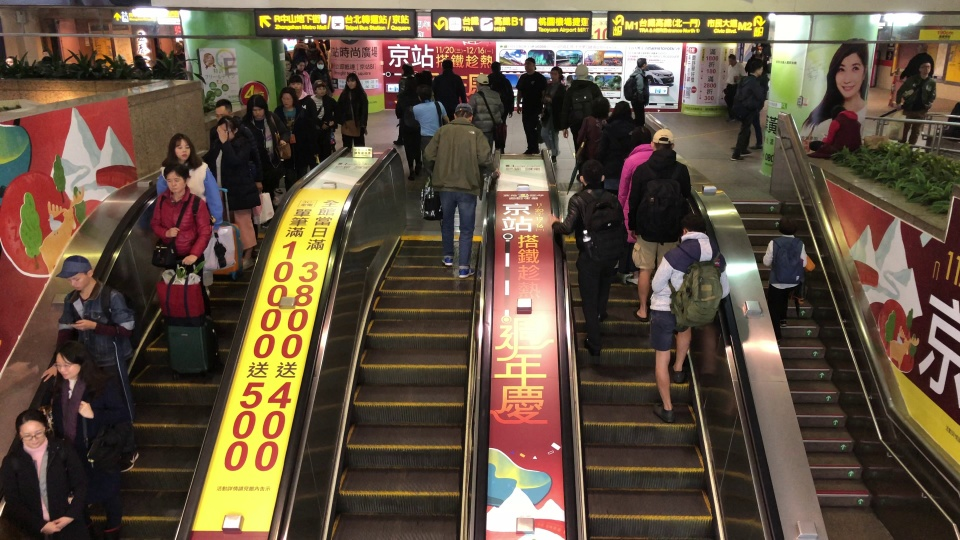person_head: (53, 338, 89, 384), (161, 134, 202, 169), (55, 256, 93, 289), (15, 410, 47, 448), (161, 165, 191, 199), (579, 160, 604, 189), (651, 128, 675, 152), (247, 94, 268, 120), (609, 101, 633, 123), (681, 214, 705, 235), (630, 125, 651, 147), (776, 215, 798, 236), (214, 117, 234, 140), (215, 99, 233, 123), (452, 103, 473, 123), (591, 96, 610, 118), (278, 87, 295, 106), (829, 105, 847, 121), (312, 80, 329, 96), (416, 87, 432, 104), (548, 66, 565, 82), (474, 74, 489, 92), (748, 58, 763, 76), (288, 75, 303, 92), (344, 73, 359, 88), (574, 65, 589, 80), (523, 57, 536, 73), (917, 62, 932, 74), (404, 76, 415, 92), (401, 63, 414, 76), (441, 60, 453, 74), (4, 56, 17, 68), (133, 55, 146, 67), (915, 42, 928, 54), (421, 69, 432, 83), (490, 61, 502, 73), (635, 57, 647, 69), (727, 54, 738, 66), (113, 55, 126, 64), (282, 60, 292, 71), (41, 49, 52, 58), (315, 58, 324, 69), (755, 45, 763, 55), (296, 61, 304, 70), (175, 42, 182, 50)
person_vbox: (40, 255, 140, 473), (651, 213, 732, 423), (48, 337, 128, 533), (553, 159, 627, 359), (424, 102, 501, 278), (627, 128, 692, 322), (0, 409, 92, 540), (154, 133, 223, 297), (144, 164, 209, 318), (204, 115, 261, 269), (208, 99, 261, 251), (760, 215, 815, 345), (615, 126, 658, 284), (241, 94, 287, 229), (563, 65, 603, 178), (466, 73, 503, 180), (272, 86, 308, 194), (894, 61, 937, 147), (731, 58, 763, 161), (805, 104, 863, 160), (411, 88, 450, 171), (516, 57, 547, 155), (539, 65, 569, 164), (484, 60, 515, 155), (573, 96, 611, 170), (288, 75, 317, 169), (603, 100, 632, 192), (336, 73, 370, 150), (310, 79, 338, 166), (400, 75, 422, 179), (433, 60, 467, 124), (390, 63, 414, 147), (622, 57, 651, 125), (721, 53, 747, 122), (895, 41, 936, 83), (309, 57, 333, 88), (744, 45, 767, 75), (293, 60, 313, 94), (282, 60, 292, 86)
